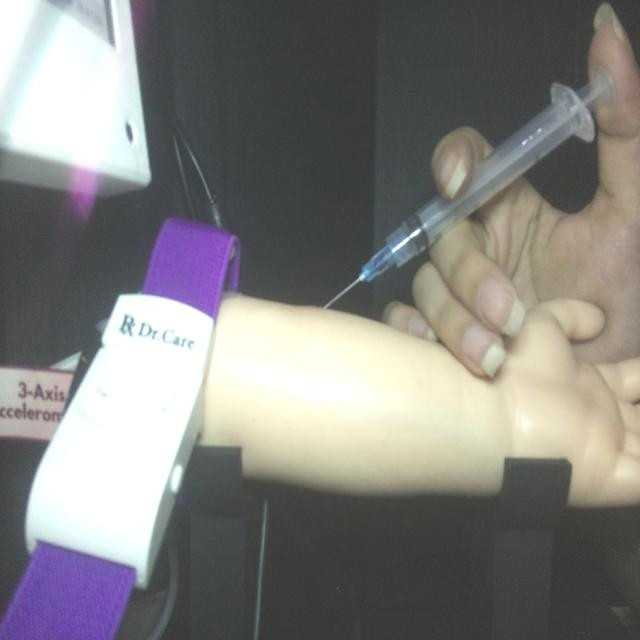28 degrees: (321, 62, 617, 312)
